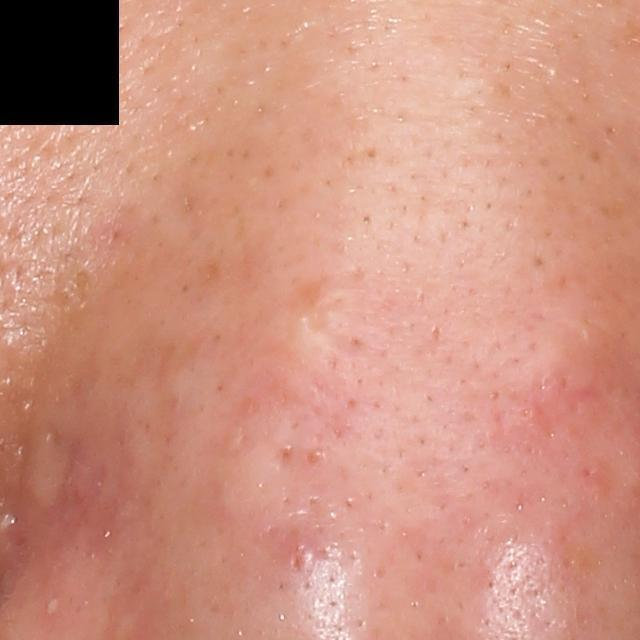hypertrophic_scar: (221, 403, 298, 524), (281, 307, 349, 381), (18, 414, 70, 508), (313, 277, 371, 341)
